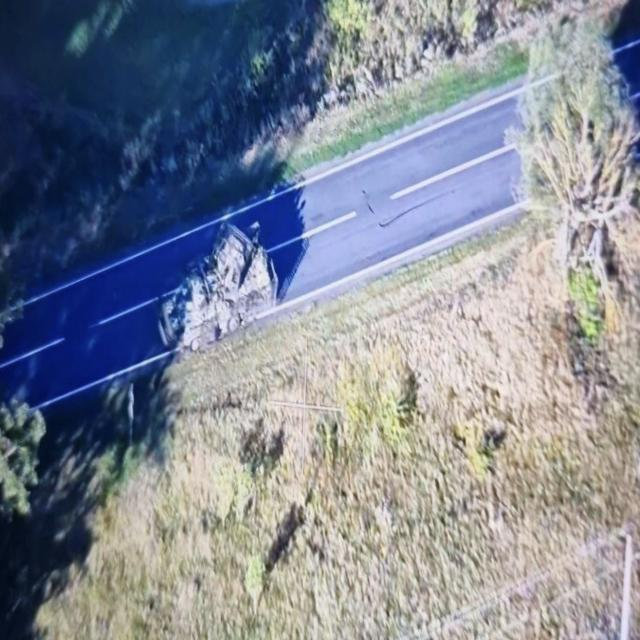vehicle: (156, 218, 279, 356)
